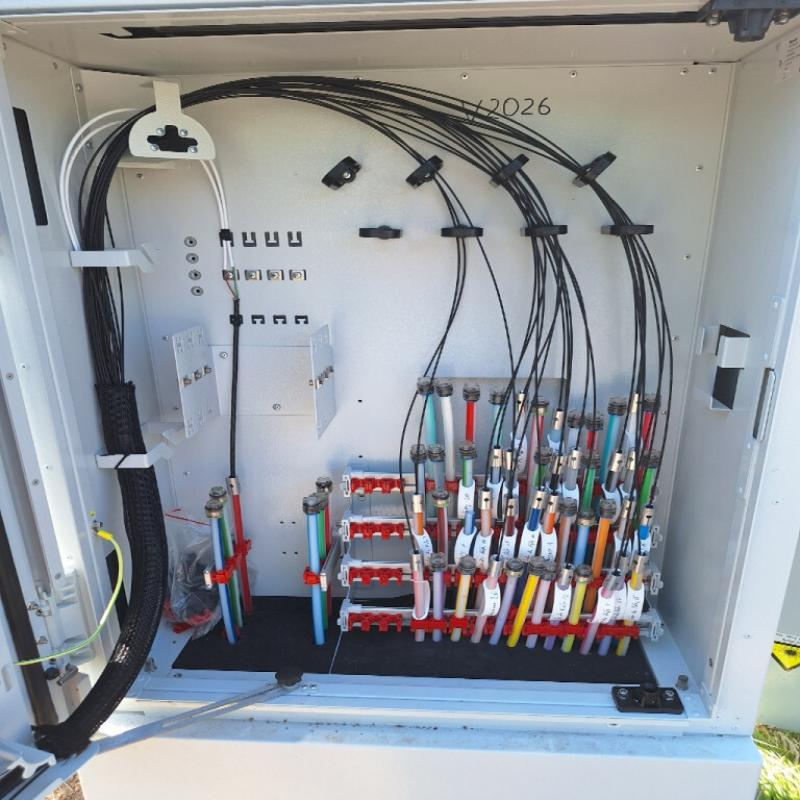NT-Gehause: (2, 6, 790, 780)
